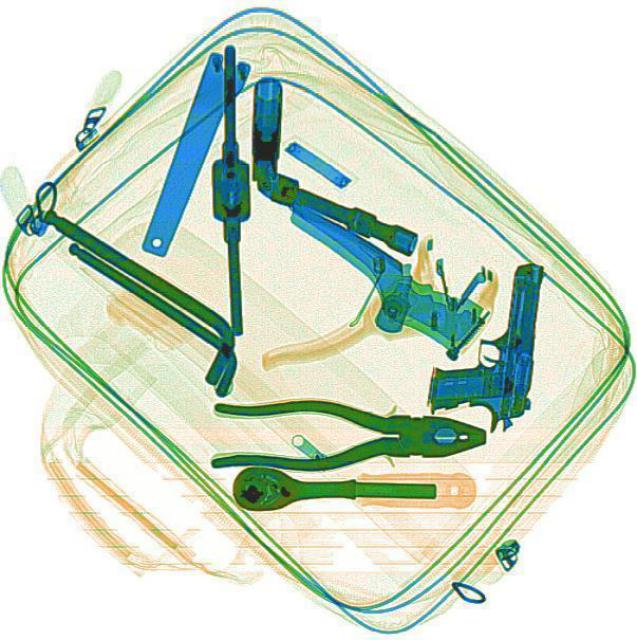Gun: (421, 252, 545, 436)
Pliers: (210, 395, 483, 471)
